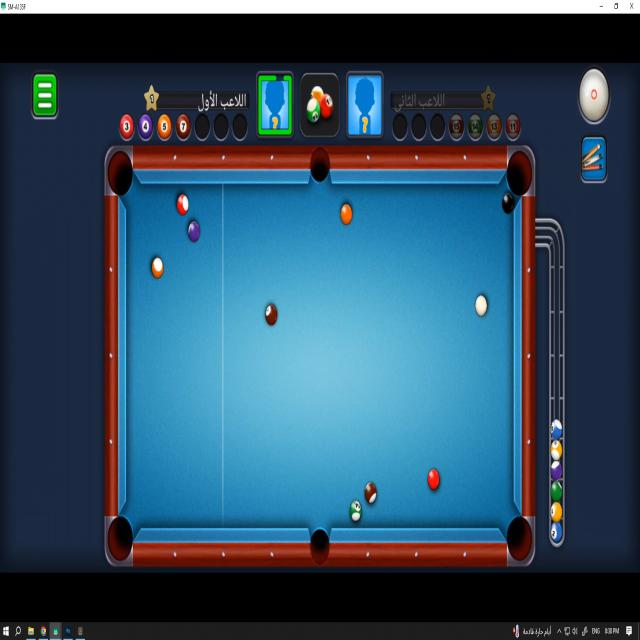object_ball: (188, 221, 200, 242), (502, 192, 514, 213), (350, 501, 361, 522), (341, 204, 352, 225), (266, 304, 277, 325), (428, 469, 439, 490), (365, 483, 376, 503), (152, 258, 163, 278), (177, 195, 188, 215)
white_cue_ball: (475, 295, 487, 317)
